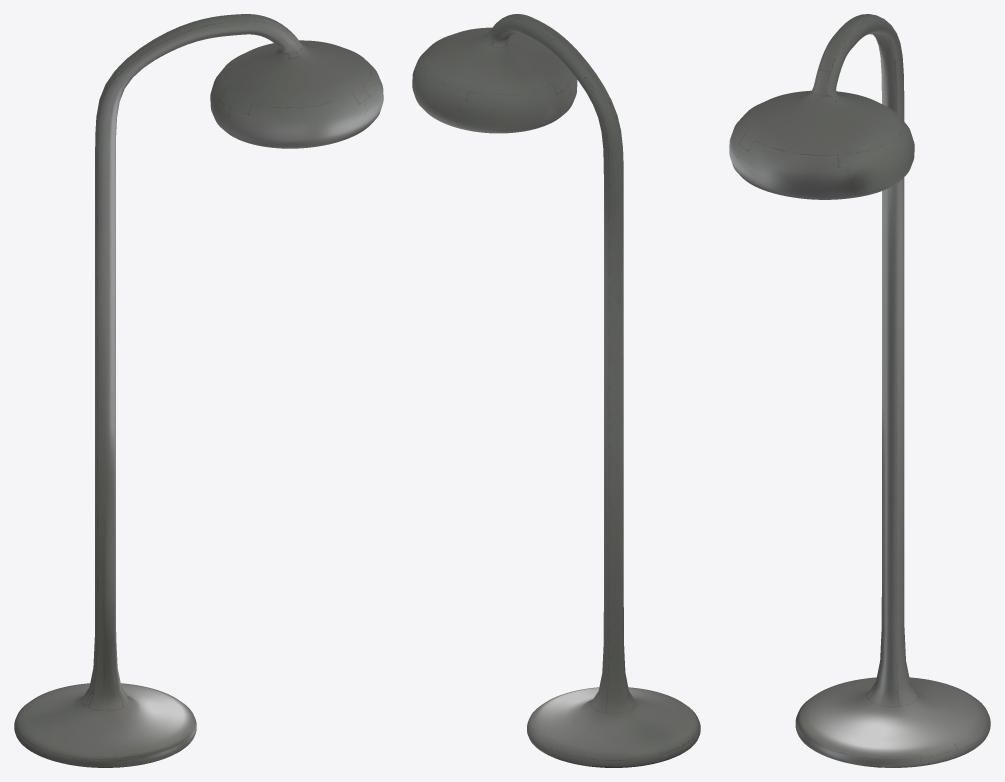
File: lamp.glb
3 renders of one model, left to right at view 1: azimuth 30°, elevation 25°; view 2: azimuth 150°, elevation 25°; view 3: azimuth 270°, elevation 25°, orthographic. The views are drawn at different scales.
Visible parts, largest first — view 1: Lamp; view 2: Lamp; view 3: Lamp.
Part boxes in pixels (bbox=[...]): Lamp: bbox=[14, 14, 383, 767]; Lamp: bbox=[412, 14, 700, 767]; Lamp: bbox=[729, 14, 990, 767].
Size of the model in its own units: 3.91 by 8.45 by 2.65.
Materials: 1 (1 with a texture image).
